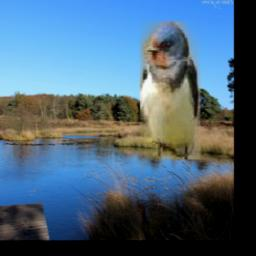Swallow: (139, 22, 199, 160)
